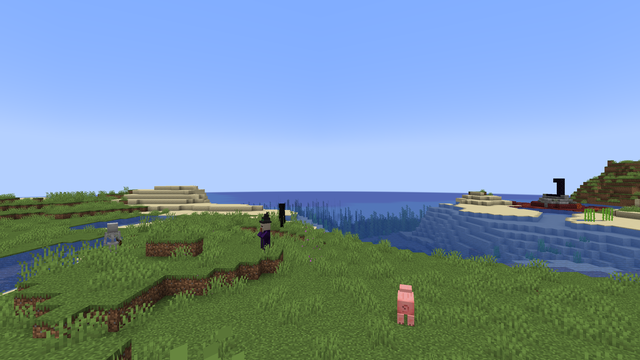cochons: (391, 290, 420, 322)
endermens: (279, 202, 284, 227)
sorcieres: (259, 220, 270, 252)
squelettes: (103, 222, 120, 257)
